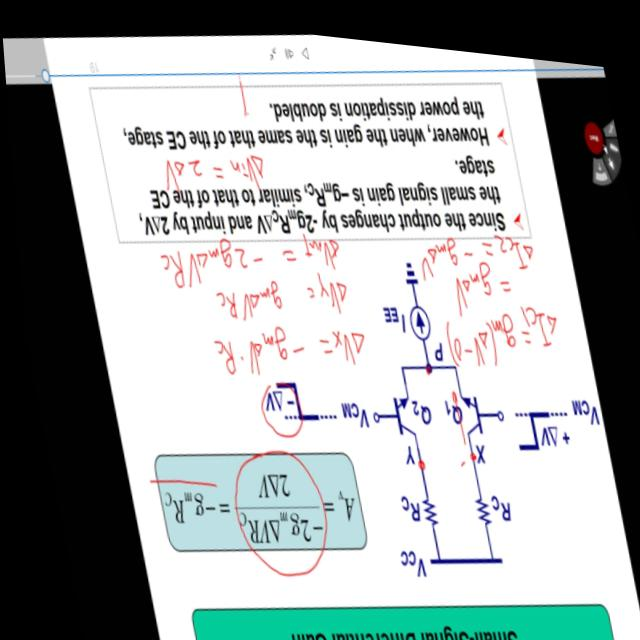panseo: (99, 100, 383, 406), (395, 187, 574, 387)
